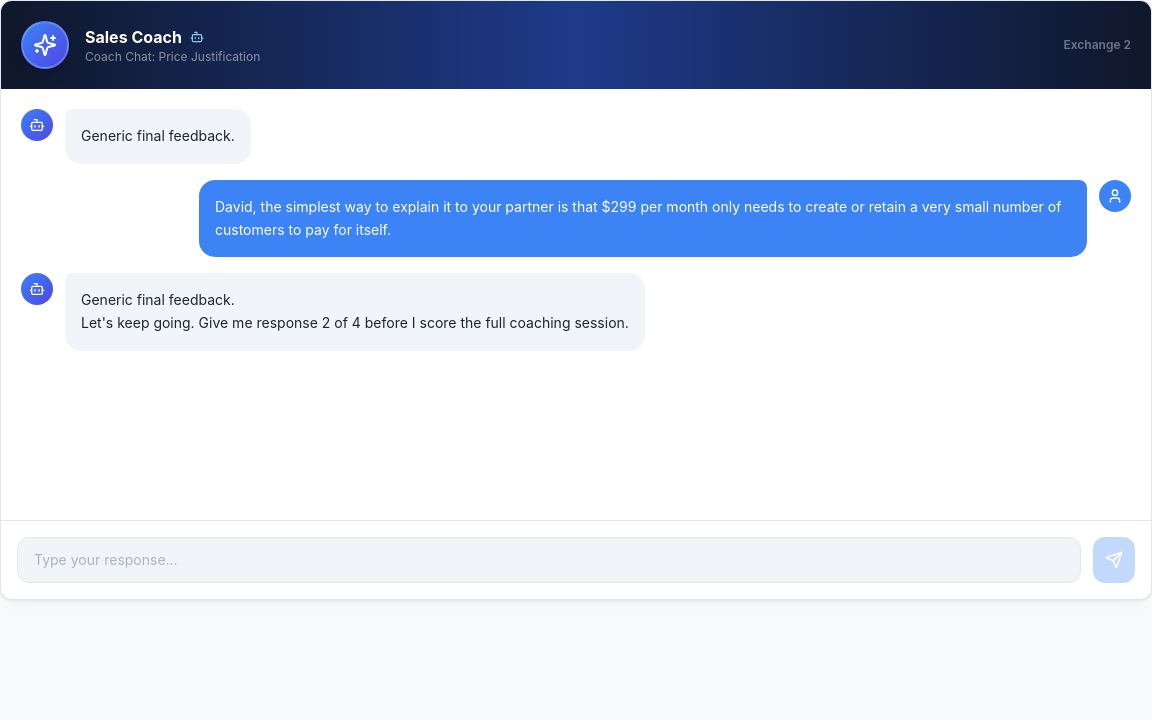
CoachChatModule › scores a module answer key as 10/10 even when the coach stream says 7/10
Earlier steps of the test are not shown.
Type "If one new customer or retained customer is worth more than $299 in lifetime value, then one win can cover the month. Reviews also increase trust, which improves conversion from people already searchi" into the field with placeholder "Type your response..." at (549, 560), box [17,537,1081,583]
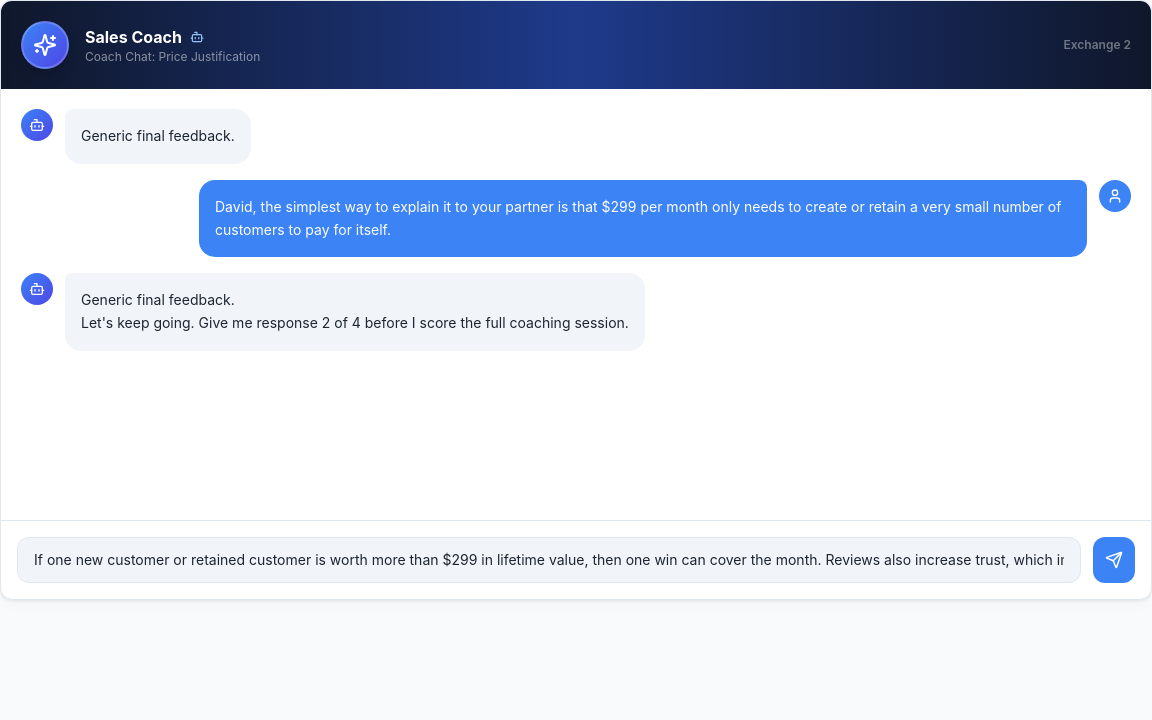
Click the button at (1114, 560), box [1093,537,1135,583]
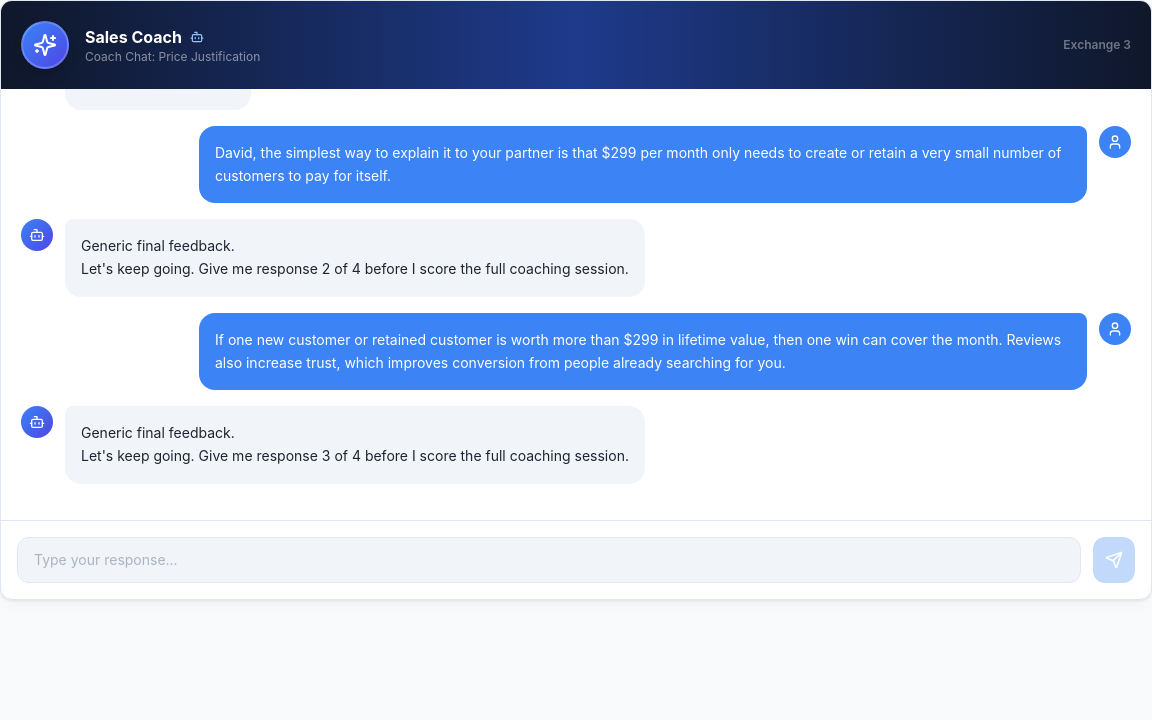
Type "So the business case is not just we are buying Reputation Management. It is that better reviews help convert more leads, automated requests create review growth, and the system reduces missed opportun" into the field with placeholder "Type your response..." at (549, 560), box [17,537,1081,583]
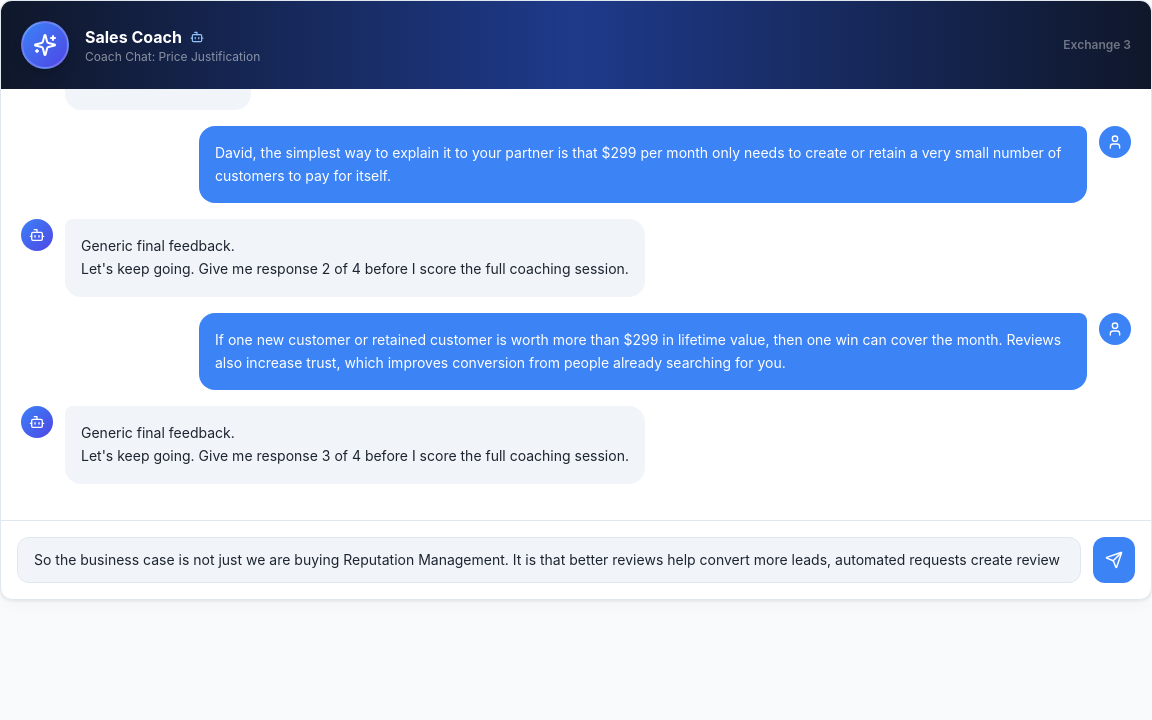
Click the button at (1114, 560), box [1093,537,1135,583]
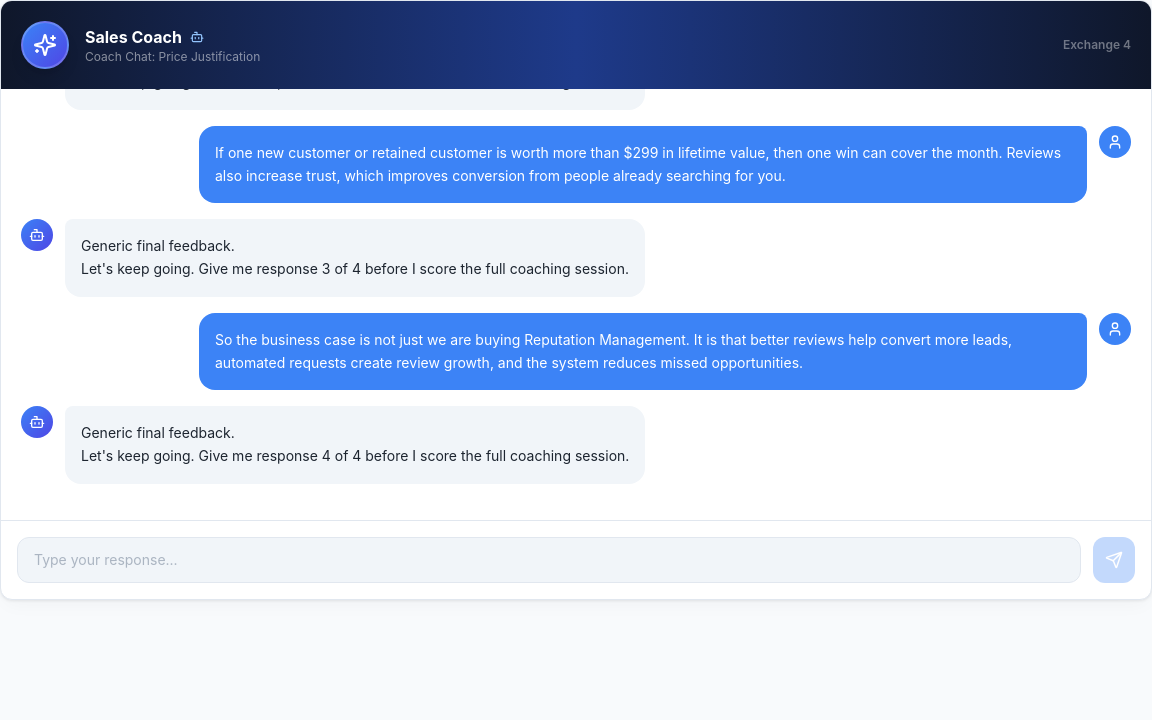
Type "If we can show your partner the break-even math and the review-growth plan, would you feel comfortable bringing him into a quick alignment call to approve the next step?" into the field with placeholder "Type your response..." at (549, 560), box [17,537,1081,583]
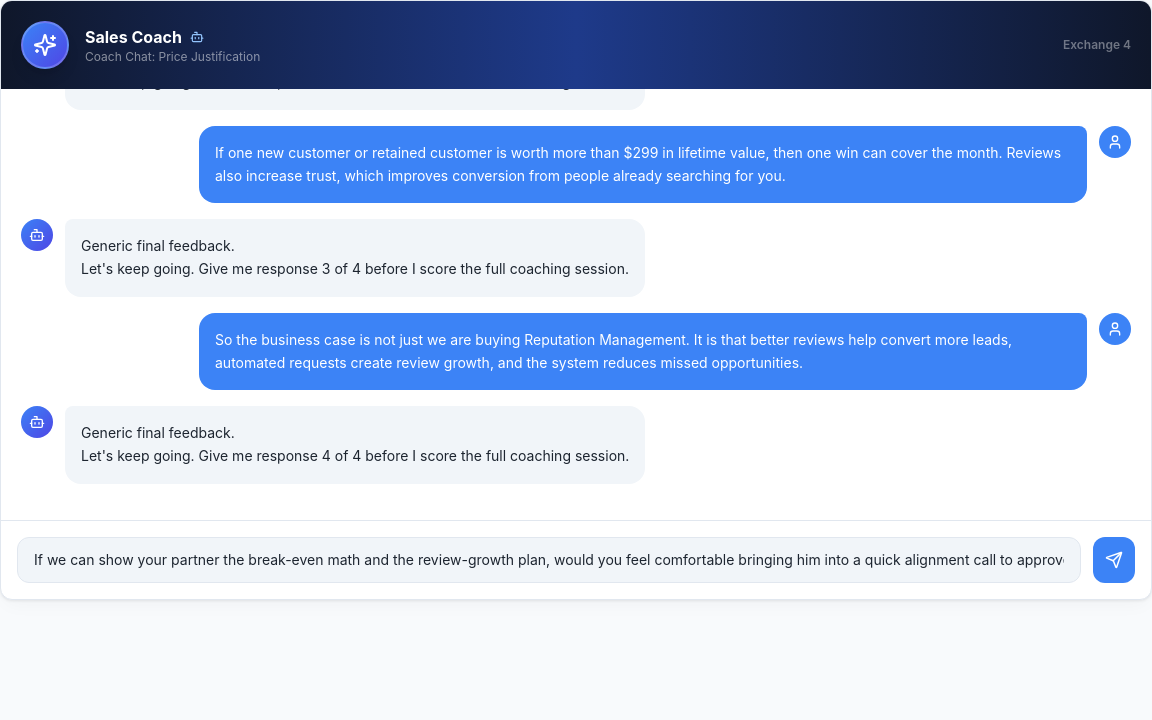
Click the button at (1114, 560), box [1093,537,1135,583]
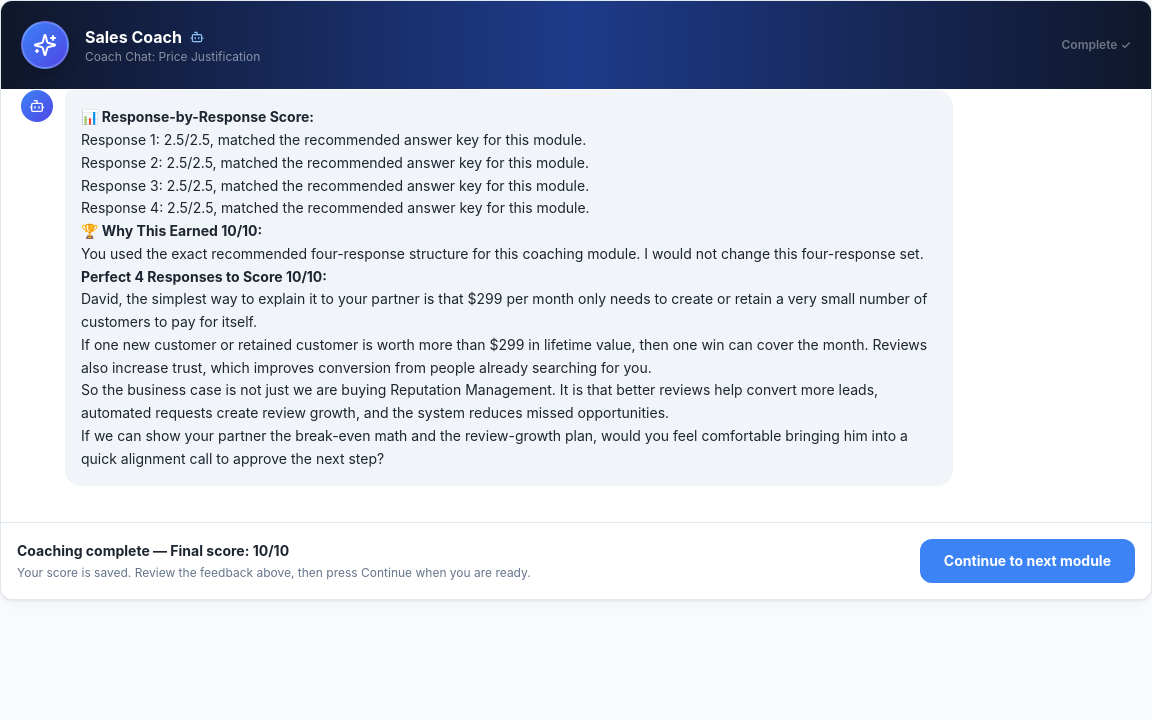
Expected: the text "Coaching complete — Final score: 10/10" is shown, [17,542,289,559]
